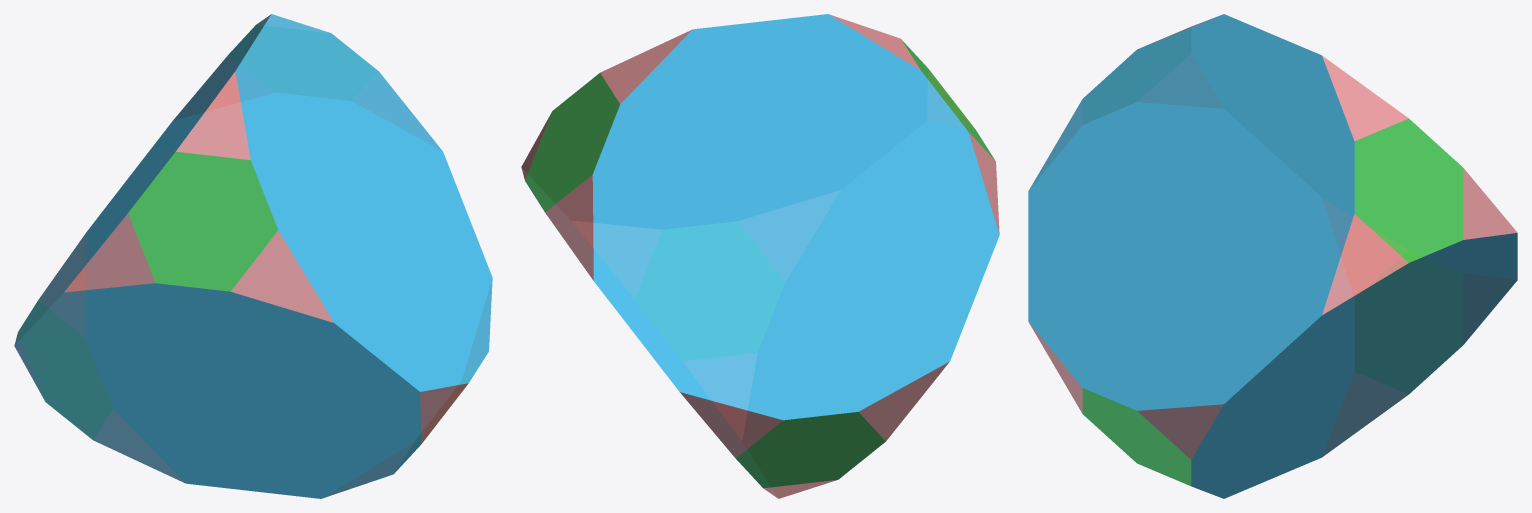
The model's file is BiTruncatedTetrahedron.obj.
3 views of the same model, side by side, from view 1: azimuth 30°, elevation 25°; view 2: azimuth 150°, elevation 25°; view 3: azimuth 270°, elevation 25° (orthographic).
Size of the model in its own units: 2 by 2 by 2.
